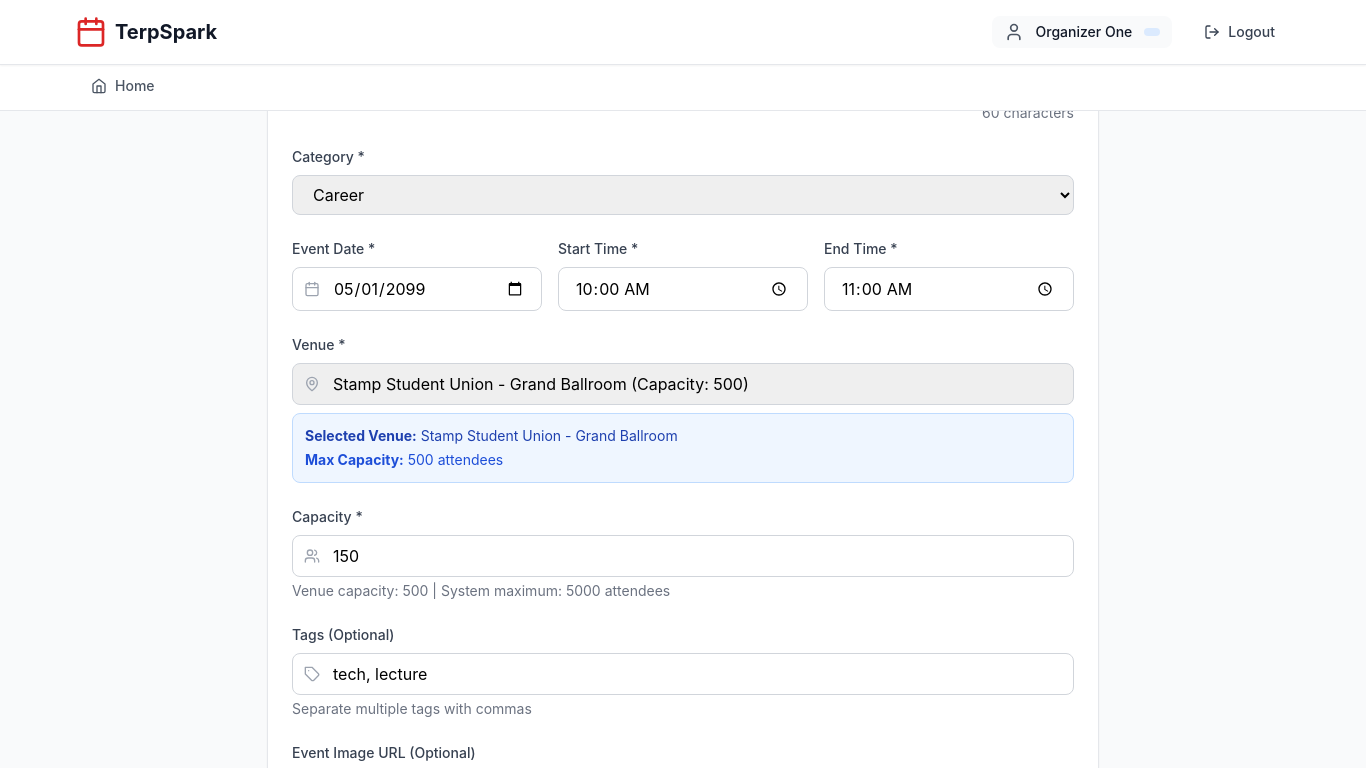
Scenario: EditEventPage › shows validation error when capacity exceeds venue capacity
The image size is (1366, 768).
(page scrolled)
Select "Stamp Student Union - Grand Ballroom (Capacity: 500)" in the dropdown below "Venue *": (683, 384) [292,363,1074,405]
expect the text "Selected Venue:" is shown: met, box [305,427,417,444]
Replace the text in the number field with "600": (683, 556) [292,535,1074,577]
(page scrolled)
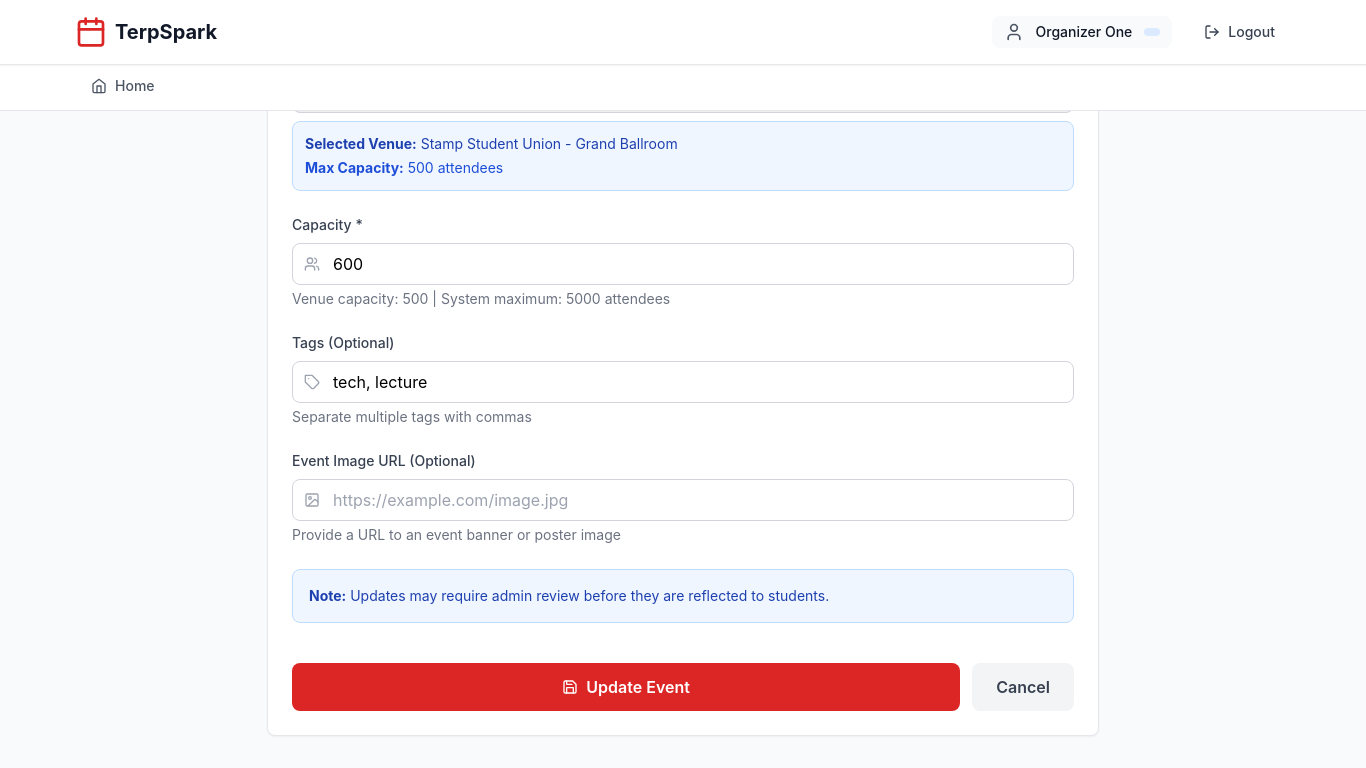
Click the button "Update Event": (626, 687) [292,663,960,711]
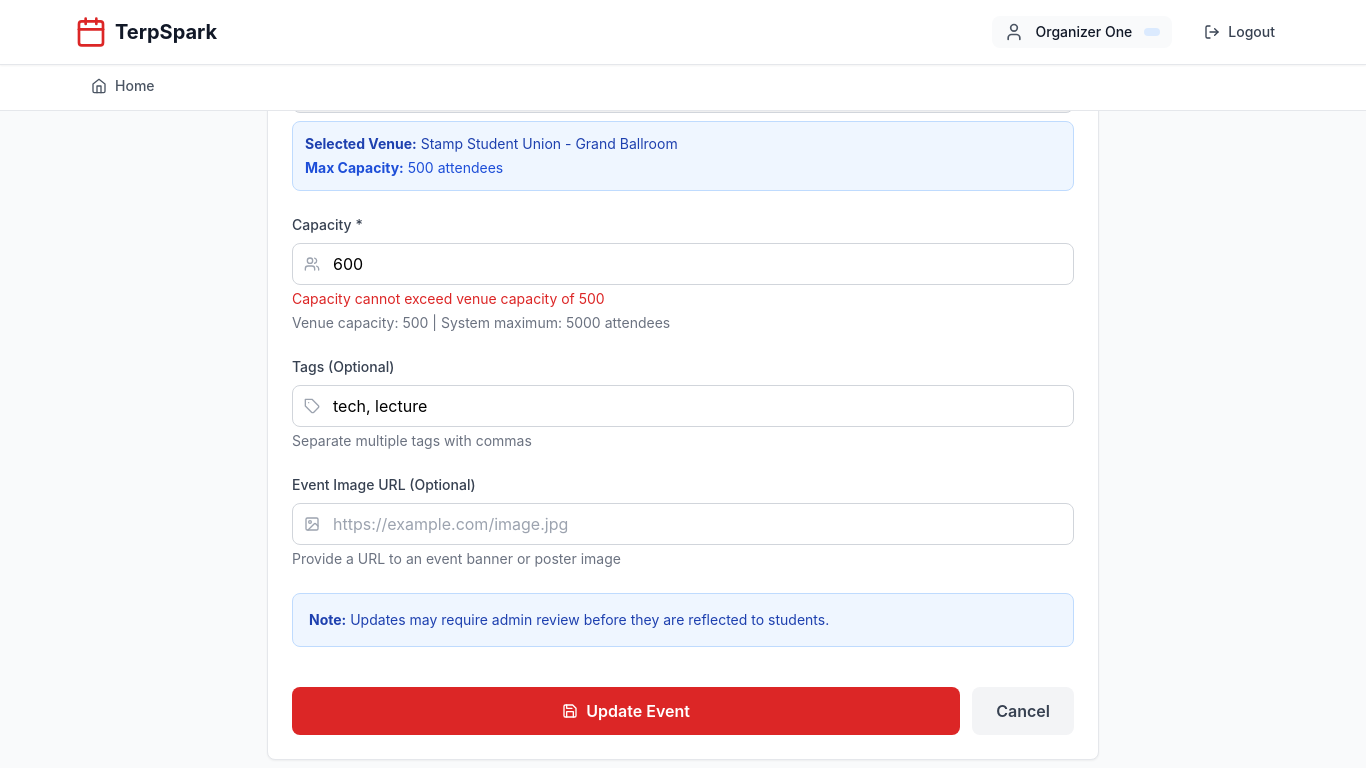
expect the text "Capacity cannot exceed venue capacity of 500" is shown: met, box [292,290,605,307]
